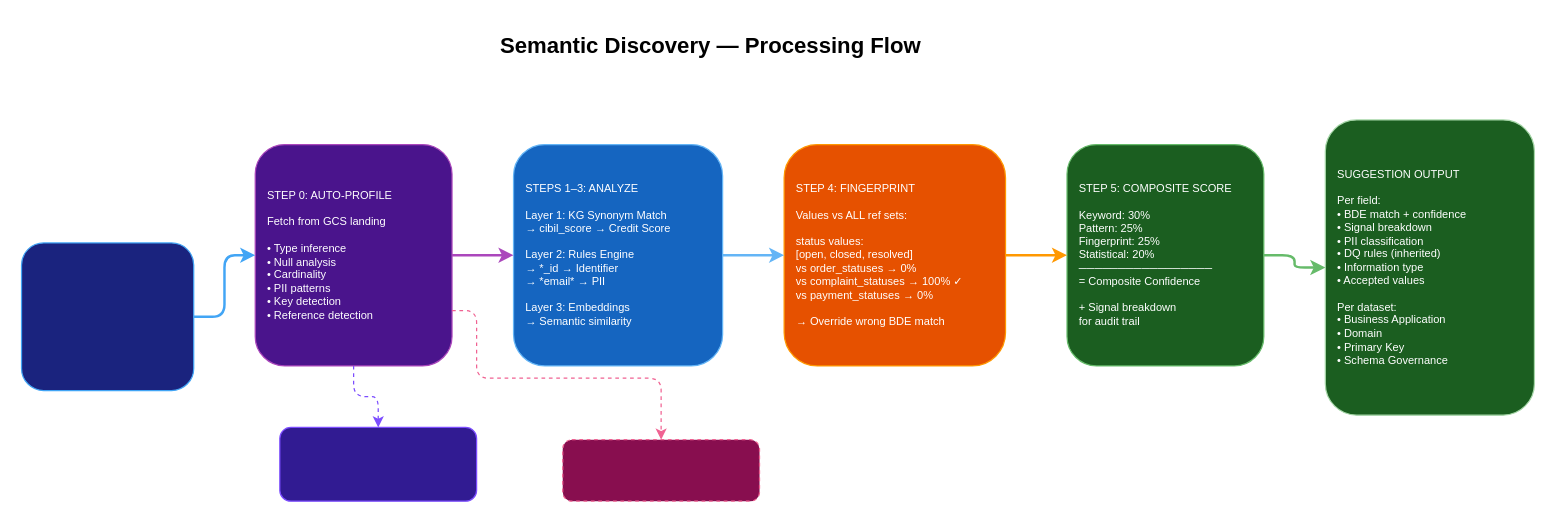
Image size: 1556x523. Some labels were removed from this diagram. The centre of each missing label's shape, as x and y in pixels:
"LLM (Optional) Stats only → Business DQ No raw data" belongs at (660,469).
"PERSIST PROFILE gs://bucket/profiles/ {dataset}/latest.json" belongs at (378,463).
"Steward Input • Natural Language • YAML/JSON • CSV Upload • Multi-feed" belongs at (107,316).
